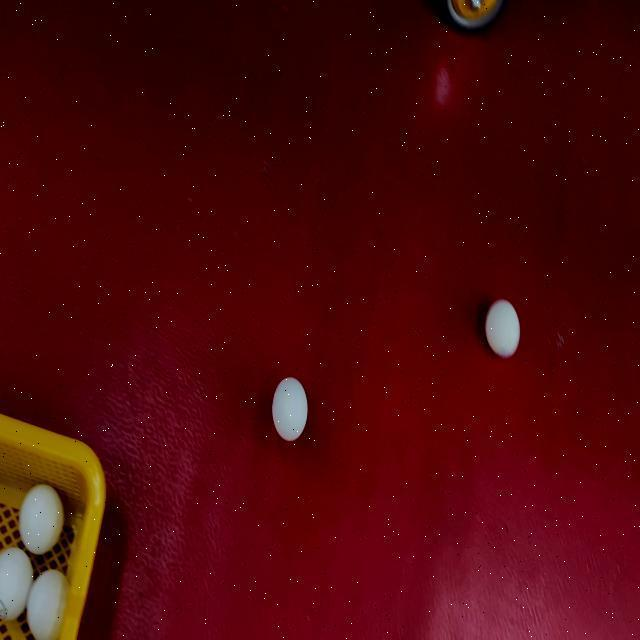ping-pong-ball: (19, 482, 66, 560), (26, 565, 74, 640), (1, 540, 36, 632), (269, 371, 311, 445), (482, 295, 524, 362)
